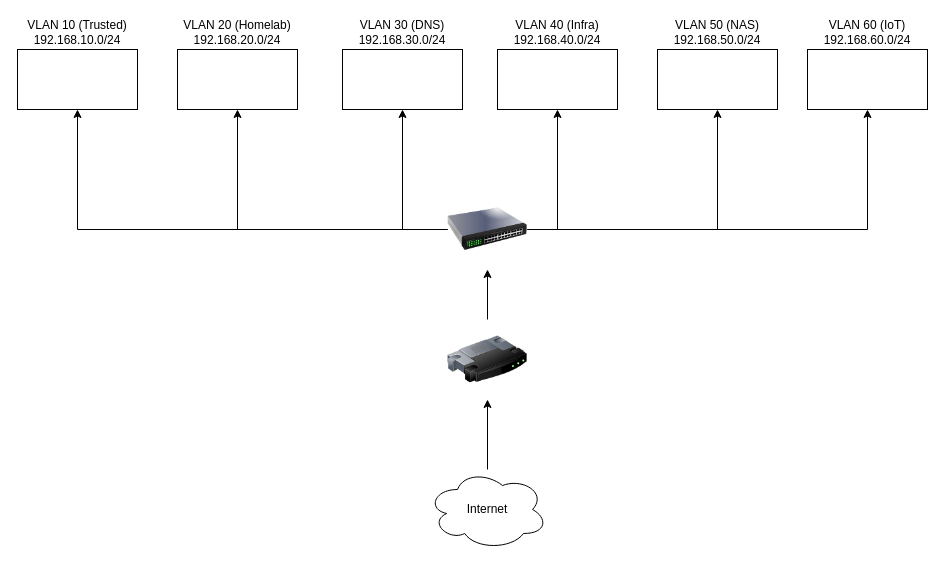
The diagram is 945 pixels wide and 567 high, and some of its shapes have lost their labels. Each missing label, with the centre of its shape:
"Edgerouter" belongs at point 487,359.
"Unifi" belongs at point 487,229.
